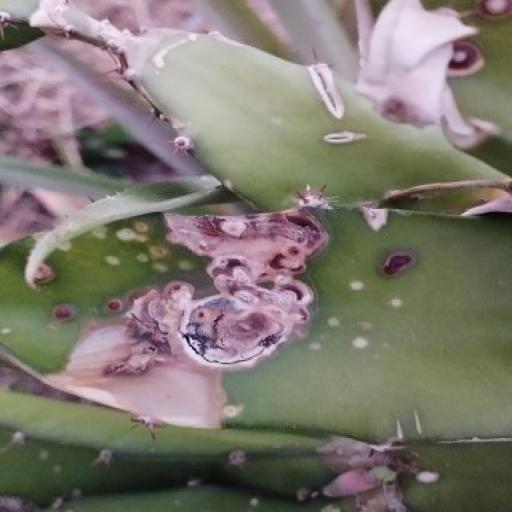stemcanker: (349, 332, 370, 358), (388, 291, 408, 312), (324, 310, 344, 330), (132, 216, 152, 236), (102, 253, 122, 271), (348, 277, 366, 296), (150, 242, 171, 258), (176, 258, 196, 274)
